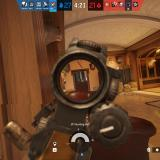Friend_label: (98, 109, 105, 115)
